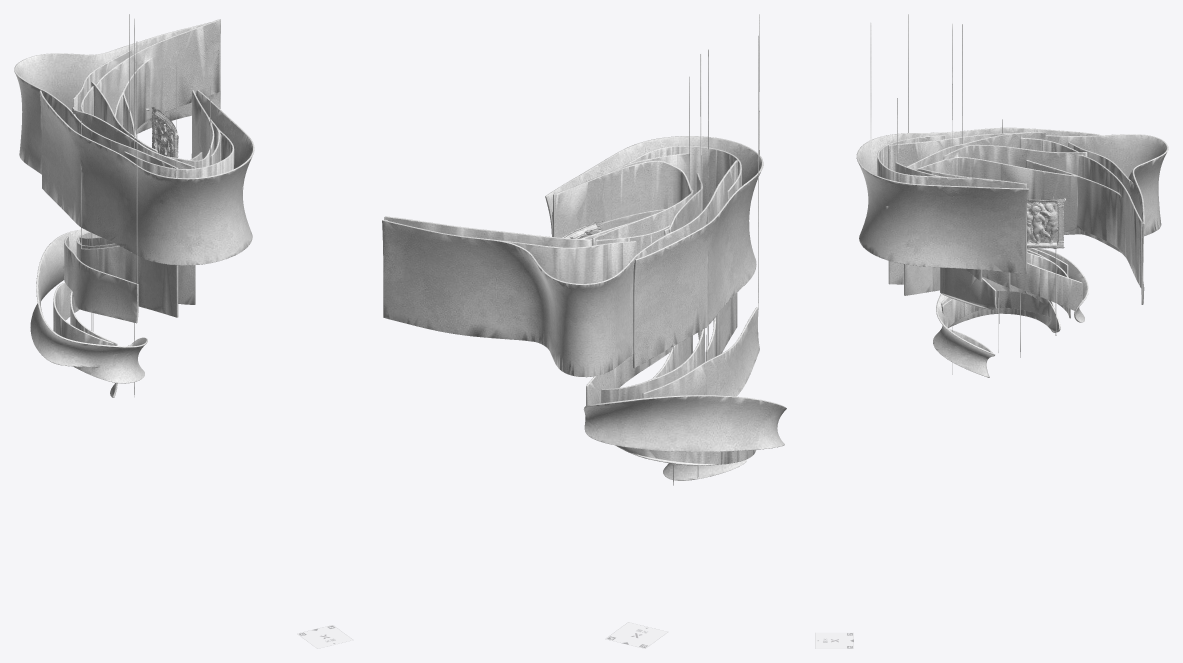
The model's file is project6.glb.
3 renders of one model, left to right at view 1: azimuth 30°, elevation 25°; view 2: azimuth 150°, elevation 25°; view 3: azimuth 270°, elevation 25°, orthographic. The views are drawn at different scales.
Parts seen in each view (by area): view 1: 06 Czipa_Borbála/Csiszár Hanna, TRACK; view 2: 06 Czipa_Borbála/Csiszár Hanna, TRACK; view 3: 06 Czipa_Borbála/Csiszár Hanna, TRACK.
Boxes of the visible parts, bbox=[...] form: 06 Czipa_Borbála/Csiszár Hanna: bbox=[14, 14, 254, 397]; TRACK: bbox=[298, 625, 352, 648]; 06 Czipa_Borbála/Csiszár Hanna: bbox=[382, 14, 786, 485]; TRACK: bbox=[606, 622, 667, 648]; 06 Czipa_Borbála/Csiszár Hanna: bbox=[856, 14, 1168, 377]; TRACK: bbox=[815, 633, 853, 648].
Bounding box in the file's own units: 3.71 × 7.96 × 4.56.
3 materials, 3 textured.
